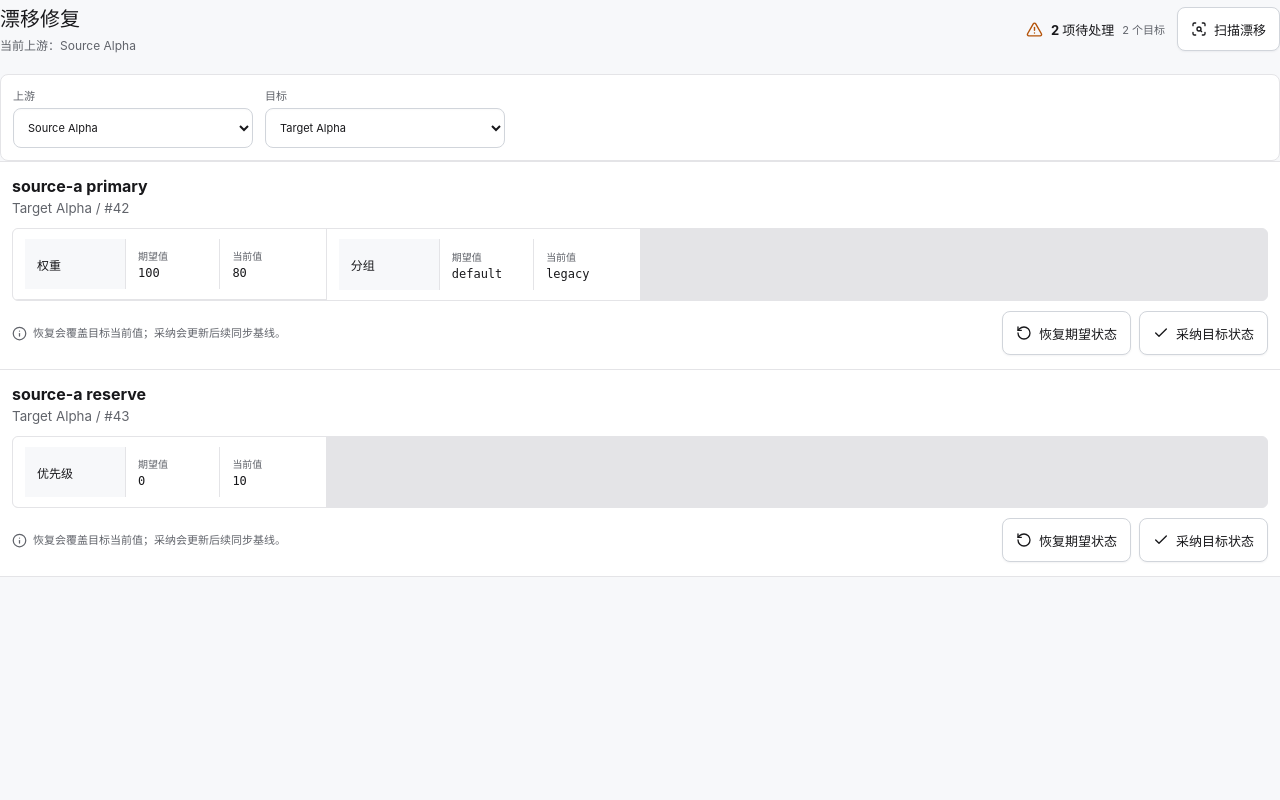
it: drift repair workflow › confirms restoring expected state and revalidates the selected upstream
Click the button with aria-label "恢复 source-a primary 在 Target Alpha 的期望状态" at (1066, 333), box x1=1002 y1=311 x2=1131 y2=355
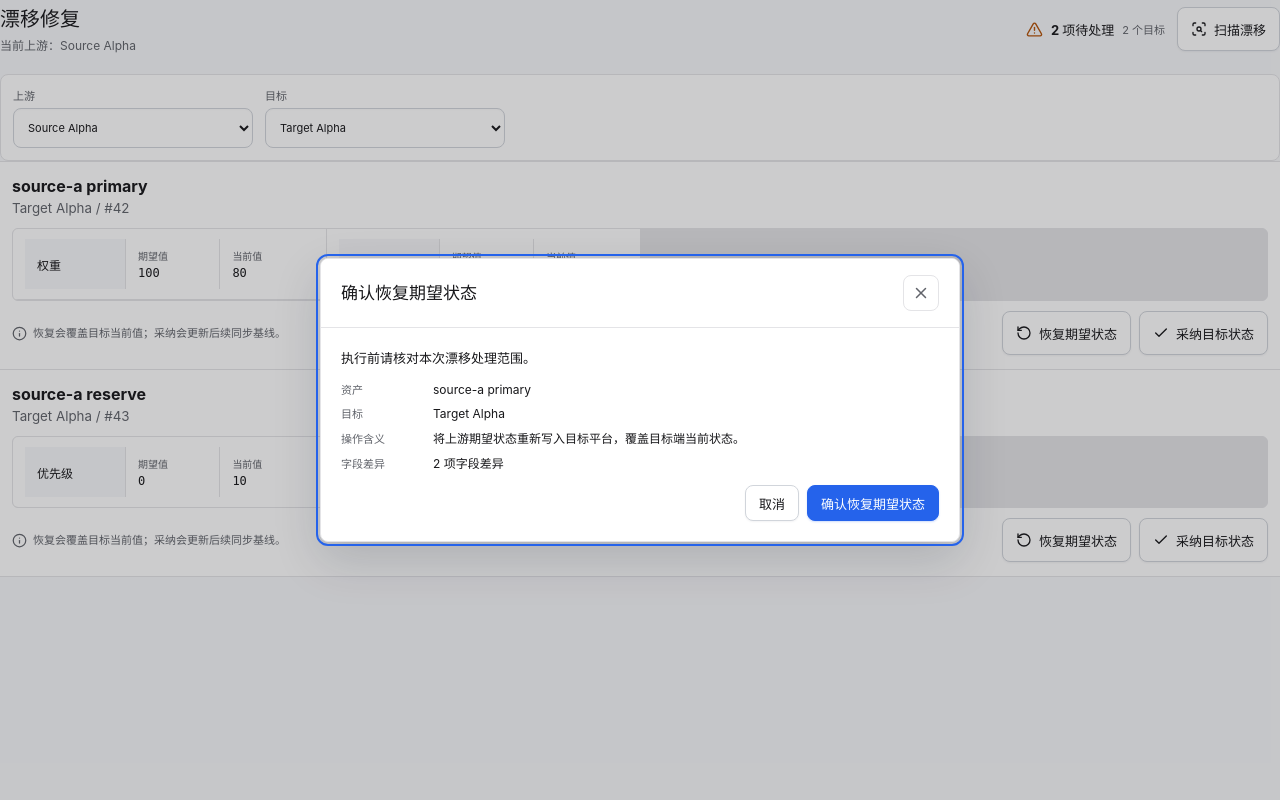
Expected: the dialog "确认恢复期望状态" shows "source-a primary", x1=433 y1=382 x2=531 y2=397
Expected: the dialog "确认恢复期望状态" shows "Target Alpha", x1=433 y1=406 x2=505 y2=421
Expected: the dialog "确认恢复期望状态" shows "将上游期望状态重新写入目标平台，覆盖目标端当前状态。", x1=433 y1=431 x2=745 y2=446
Click the button "确认恢复期望状态" at (873, 503), box x1=807 y1=485 x2=939 y2=521
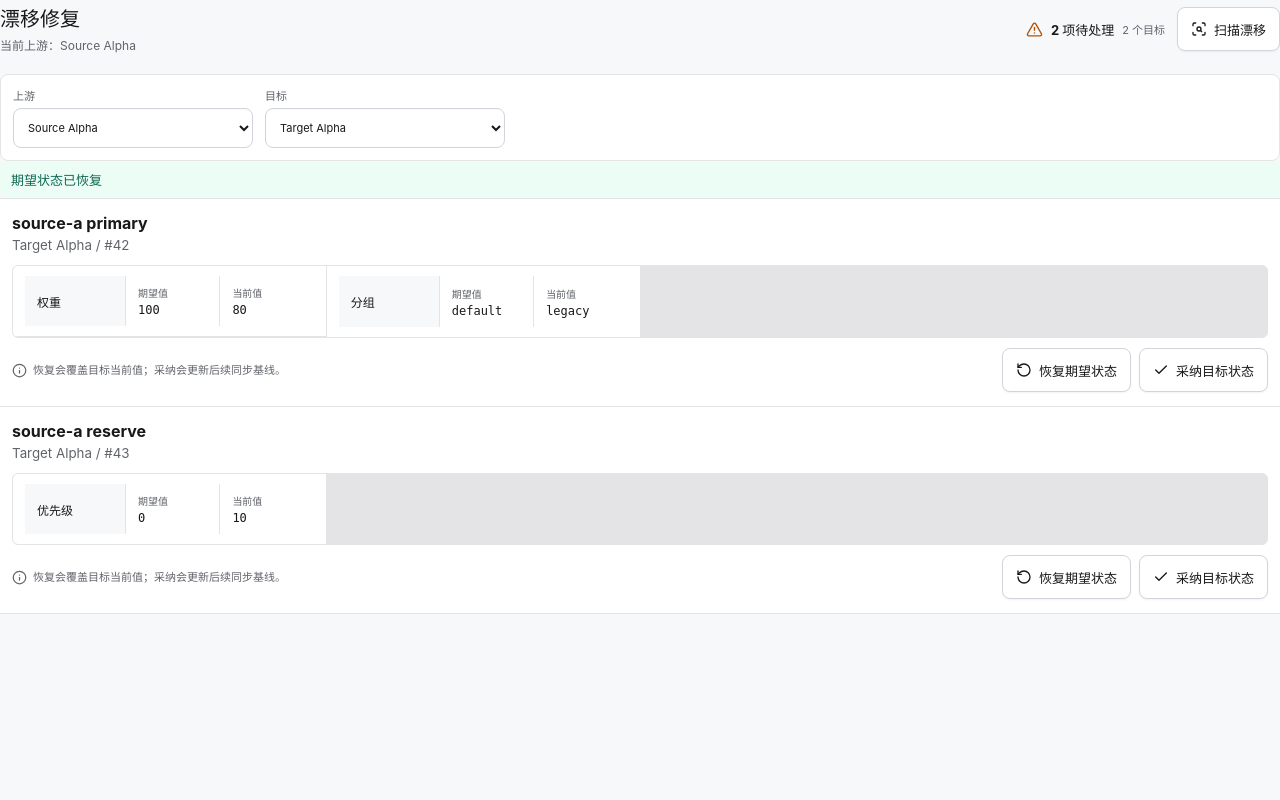
Expected: the message reads "期望状态已恢复", x1=11 y1=172 x2=102 y2=188
